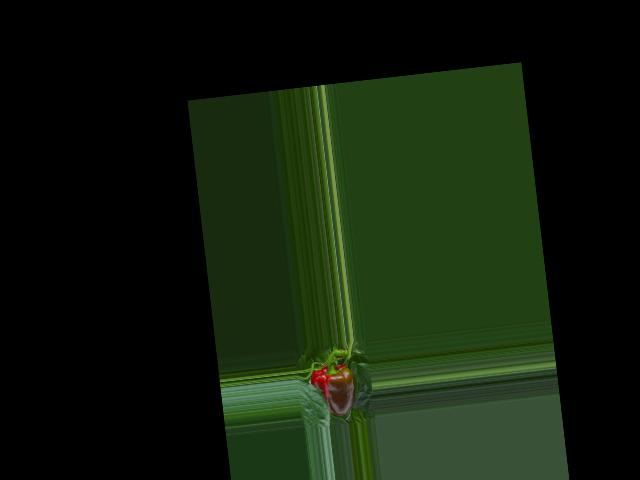bell_pepper: (306, 355, 364, 422)
